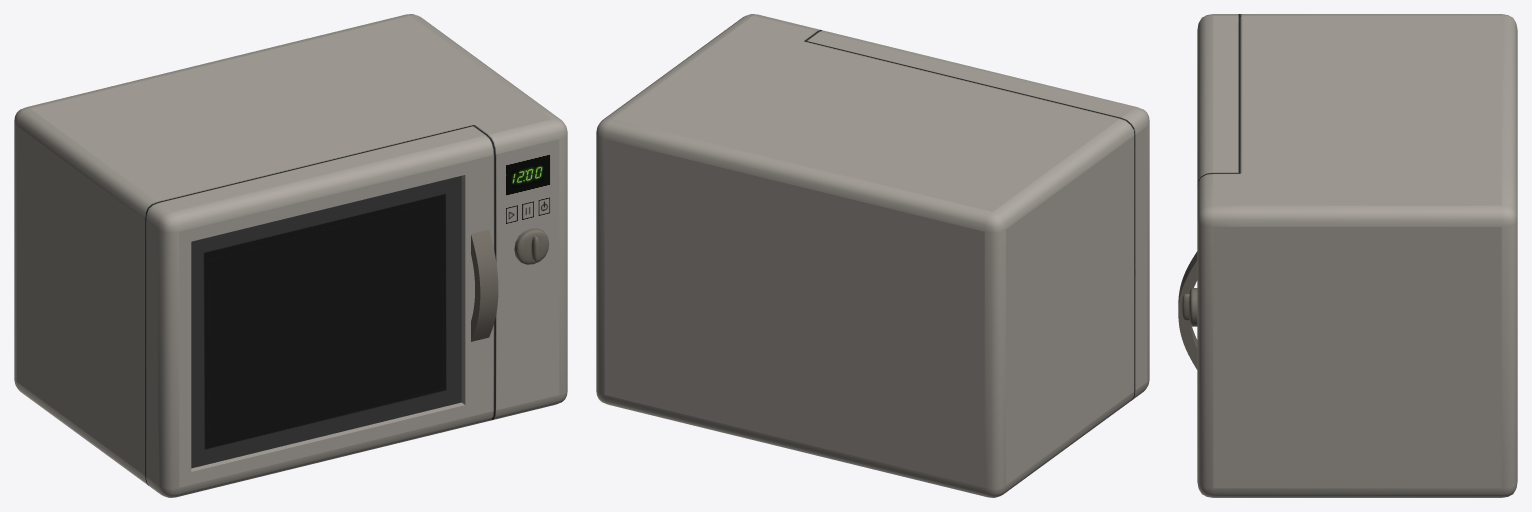
The model's file is microwave.fbx.
3 views of the same model, side by side, from view 1: azimuth 30°, elevation 25°; view 2: azimuth 150°, elevation 25°; view 3: azimuth 270°, elevation 25° (orthographic). The views are drawn at different scales.
Visible parts, largest first — view 1: Line001; view 2: Line001; view 3: Line001.
Part boxes in pixels (left/top/right/bottom): Line001: left=14, top=14, right=567, bottom=497; Line001: left=596, top=14, right=1149, bottom=497; Line001: left=1178, top=14, right=1517, bottom=497.
Bounding box in the file's own units: 450 × 300 × 318.
Materials: 1 (1 with a texture image).
